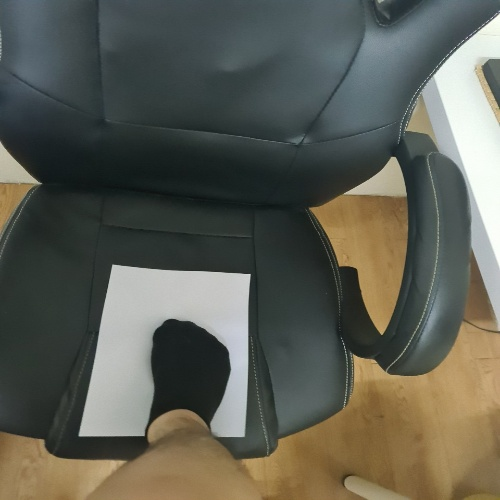Top_Foot: (70, 260, 266, 456)
